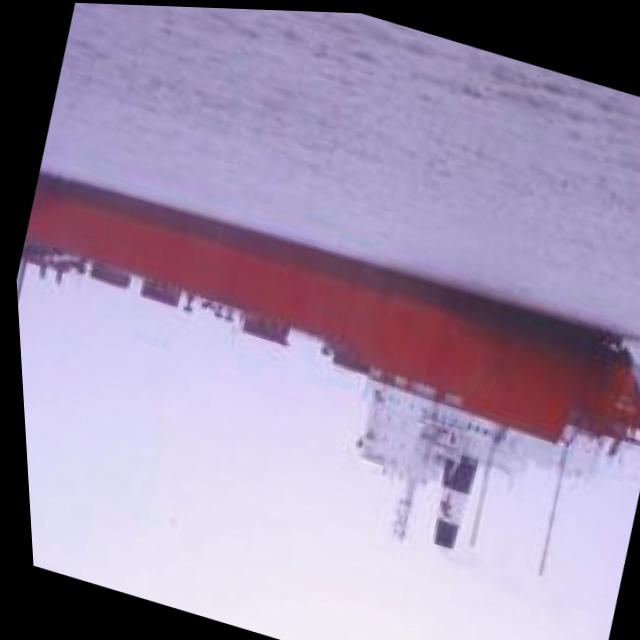ship2: (13, 171, 640, 574)
